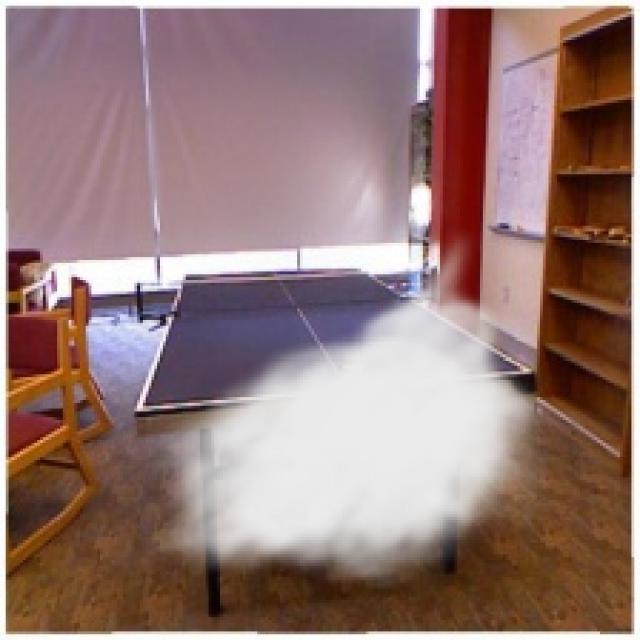Smoke: (140, 226, 554, 592)
